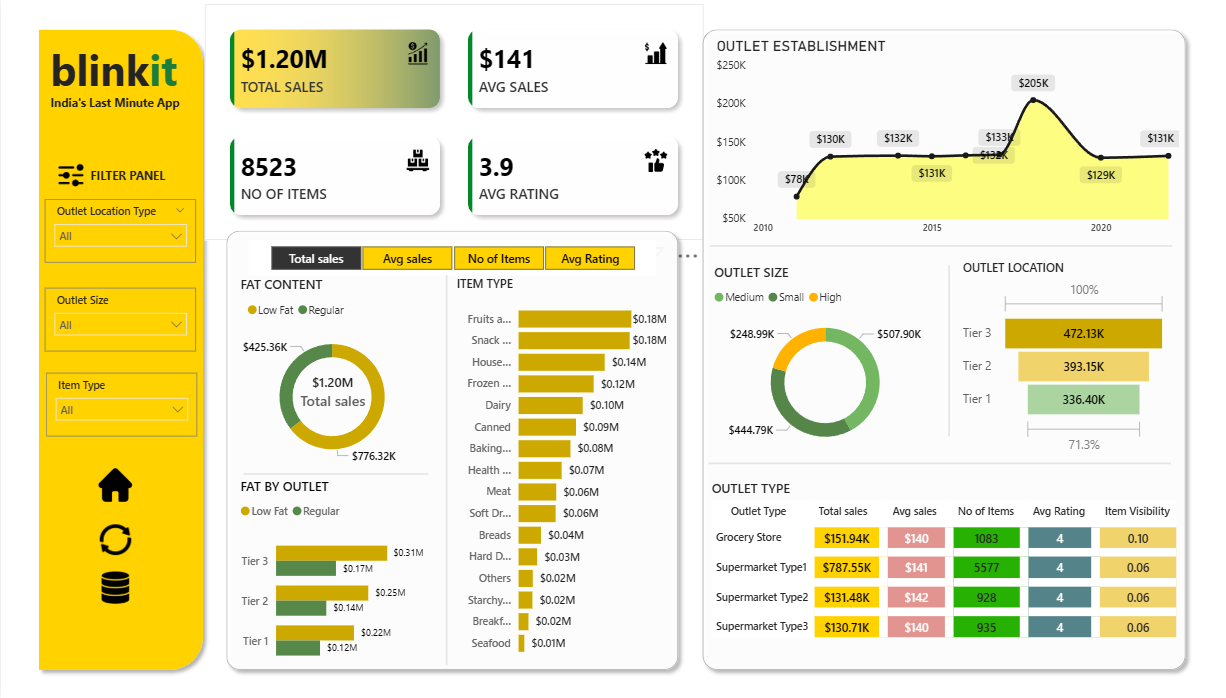

The page's visual inventory and layout, read from the dashboard file:
{"tool":"powerbi","page":{"name":"DashBoard","canvas":[1400,800],"ordinal":0},"visuals":[{"type":"shape","box":[34.3,25.7,205.7,750],"z":0},{"type":"textbox","box":[51.4,42.9,172.9,80],"z":1000},{"type":"textbox","box":[51.4,104.3,172.9,37.1],"z":2000},{"type":"cardVisual","fields":{"Data":["BlinkIT Grocery Data.Total sales","BlinkIT Grocery Data.Avg sales","BlinkIT Grocery Data.No of Items","BlinkIT Grocery Data.Avg Rating"]},"box":[232.9,5.7,570,270],"z":3000},{"type":"shape","box":[248.6,255.7,534.3,520],"z":4000},{"type":"donutChart","title":"FAT CONTENT","fields":{"Y":["BlinkIT Grocery Data.Total sales"],"Category":["BlinkIT Grocery Data.Item Fat Content"]},"box":[268.6,315.7,220,230],"z":5000},{"type":"slicer","fields":{"Values":["Metrics.Metrics"]},"box":[282.9,275.7,465.7,40],"z":6000},{"type":"cardVisual","fields":{"Data":["BlinkIT Grocery Data.Total sales"]},"box":[308.6,411.4,141.4,74.3],"z":7000},{"type":"clusteredBarChart","title":"FAT BY OUTLET","fields":{"Y":["BlinkIT Grocery Data.Total sales"],"Category":["BlinkIT Grocery Data.Outlet Location Type"],"Series":["BlinkIT Grocery Data.Item Fat Content"]},"box":[268.6,545.7,220,230],"z":8000},{"type":"shape","box":[277.1,524.3,211.4,37.1],"z":9000},{"type":"shape","box":[502.9,315.7,12.9,445.7],"z":10000},{"type":"barChart","title":"ITEM TYPE","fields":{"Y":["BlinkIT Grocery Data.Total sales"],"Category":["BlinkIT Grocery Data.Item Type"]},"box":[515.7,315.7,250,445.7],"z":11000},{"type":"shape","box":[792.9,25.7,570,750],"z":12000},{"type":"lineChart","title":"OUTLET ESTABLISHMENT","fields":{"Category":["BlinkIT Grocery Data.Outlet Establishment Year"],"Y":["BlinkIT Grocery Data.Total sales"]},"box":[812.9,42.9,538.6,235.7],"z":13000},{"type":"shape","box":[810,278.6,528.6,7.1],"z":14000},{"type":"donutChart","title":"OUTLET SIZE","fields":{"Y":["BlinkIT Grocery Data.Total sales"],"Category":["BlinkIT Grocery Data.Outlet Size"]},"box":[810,301.4,264.3,225.7],"z":15000},{"type":"shape","box":[1072.9,304.3,21.4,195.7],"z":16000},{"type":"funnel","title":"OUTLET LOCATION","fields":{"Category":["BlinkIT Grocery Data.Outlet Location Type"],"Y":["Sum(BlinkIT Grocery Data.Sales)"]},"box":[1094.3,297.1,242.9,228.6],"z":17000},{"type":"shape","box":[808.6,527.1,528.6,7.1],"z":18000},{"type":"pivotTable","title":"OUTLET TYPE","fields":{"Values":["BlinkIT Grocery Data.Total sales","BlinkIT Grocery Data.Avg sales","BlinkIT Grocery Data.No of Items","BlinkIT Grocery Data.Avg Rating","Avg(BlinkIT Grocery Data.Item Visibility)"],"Rows":["BlinkIT Grocery Data.Outlet Type"]},"box":[807.1,548.6,541.4,212.9],"z":19000},{"type":"slicer","fields":{"Values":["BlinkIT Grocery Data.Outlet Location Type"]},"box":[50,228.6,172.9,72.9],"z":20000},{"type":"slicer","fields":{"Values":["BlinkIT Grocery Data.Outlet Size"]},"box":[50,330,172.9,72.9],"z":21000},{"type":"slicer","fields":{"Values":["BlinkIT Grocery Data.Item Type"]},"box":[51.4,427.1,172.9,72.9],"z":22000},{"type":"textbox","box":[97.1,187.1,112.9,28.6],"z":23000},{"type":"image","box":[111.4,531.4,38.6,48.6],"z":24000},{"type":"image","box":[64.3,181.4,31,40],"z":25000},{"type":"image","box":[112.9,597.1,35.7,41.4],"z":26000},{"type":"image","box":[107.1,654.3,47.1,37.1],"z":26001}]}

Visuals, with their boxes in screenshot pixels (x1, y1, x2, y2), scaled from the page's 1400x800 canvas onto the 1226x698 screenshot:
shape: 30 22 210 677
textbox: 45 37 196 107
textbox: 45 91 196 123
cardVisual - BlinkIT Grocery Data.Total sales x BlinkIT Grocery Data.Avg sales: 204 5 703 241
shape: 218 223 686 677
"FAT CONTENT" donutChart: 235 275 428 476
slicer - Metrics.Metrics: 248 241 656 275
cardVisual - BlinkIT Grocery Data.Total sales: 270 359 394 424
"FAT BY OUTLET" clusteredBarChart: 235 476 428 677
shape: 243 457 428 490
shape: 440 275 452 664
"ITEM TYPE" barChart: 452 275 671 664
shape: 694 22 1194 677
"OUTLET ESTABLISHMENT" lineChart: 712 37 1184 243
shape: 709 243 1172 249
"OUTLET SIZE" donutChart: 709 263 941 460
shape: 940 266 958 436
"OUTLET LOCATION" funnel: 958 259 1171 459
shape: 708 460 1171 466
"OUTLET TYPE" pivotTable: 707 479 1181 664
slicer - BlinkIT Grocery Data.Outlet Location Type: 44 199 195 263
slicer - BlinkIT Grocery Data.Outlet Size: 44 288 195 352
slicer - BlinkIT Grocery Data.Item Type: 45 373 196 436
textbox: 85 163 184 188
image: 98 464 131 506
image: 56 158 83 193
image: 99 521 130 557
image: 94 571 135 603
